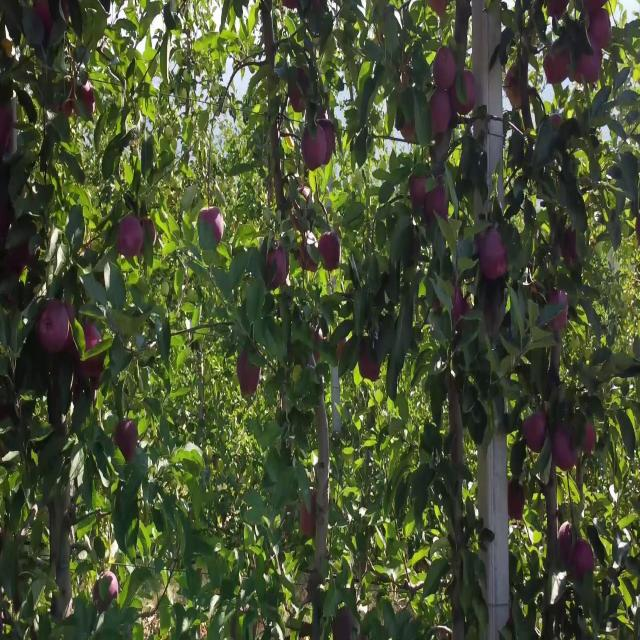apple: (72, 319, 104, 384), (40, 298, 71, 357), (480, 227, 509, 284), (116, 220, 144, 263), (584, 7, 612, 50), (8, 241, 39, 279), (112, 419, 139, 462), (452, 71, 477, 116), (504, 63, 527, 110), (544, 42, 568, 87), (524, 412, 548, 455), (580, 42, 604, 85), (552, 426, 573, 473), (572, 540, 596, 581), (436, 49, 458, 92), (288, 71, 310, 114), (548, 291, 569, 336), (200, 206, 224, 245), (268, 248, 289, 292), (304, 127, 324, 171), (452, 291, 474, 331), (292, 184, 312, 228), (432, 92, 452, 135), (320, 234, 341, 272), (300, 234, 319, 276), (0, 106, 16, 155), (360, 348, 381, 384), (408, 177, 429, 213), (8, 248, 32, 279), (508, 483, 526, 523), (300, 497, 316, 540), (240, 355, 260, 389), (76, 85, 96, 117), (564, 227, 579, 268), (432, 184, 449, 220), (484, 305, 502, 338), (240, 369, 260, 398), (560, 526, 574, 565), (36, 7, 54, 37), (568, 49, 583, 85), (104, 568, 120, 601), (324, 120, 336, 162), (548, 0, 569, 21), (56, 99, 74, 121), (400, 120, 416, 142), (584, 426, 596, 455), (312, 334, 324, 363), (432, 0, 449, 20), (144, 220, 157, 244), (316, 106, 329, 130), (4, 35, 15, 57), (4, 206, 11, 236), (552, 113, 563, 132), (340, 341, 347, 361)
